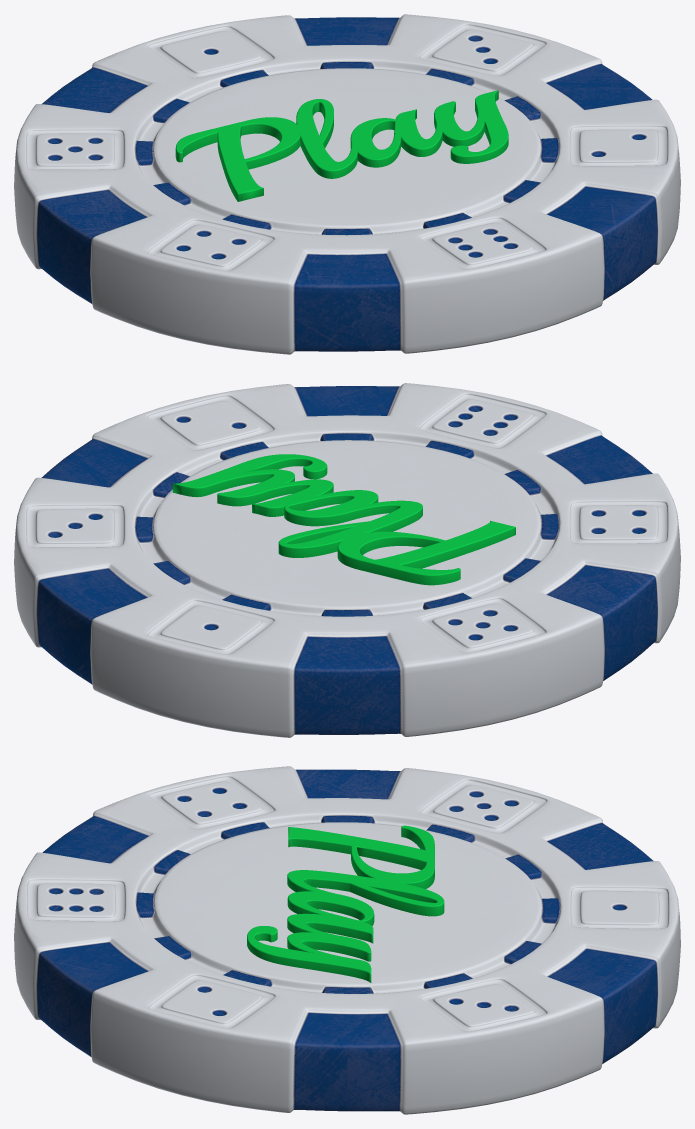
The model's file is white-chip.glb.
3 renders of one model, top to bottom at view 1: azimuth 30°, elevation 25°; view 2: azimuth 150°, elevation 25°; view 3: azimuth 270°, elevation 25°, orthographic.
Visible parts, largest first — view 1: Pocker_Chip_HP_White, Text; view 2: Pocker_Chip_HP_White, Text; view 3: Pocker_Chip_HP_White, Text.
Part boxes in pixels (bbox=[...]): Pocker_Chip_HP_White: bbox=[14, 14, 680, 354]; Text: bbox=[175, 90, 508, 201]; Pocker_Chip_HP_White: bbox=[14, 383, 680, 737]; Text: bbox=[172, 454, 515, 585]; Pocker_Chip_HP_White: bbox=[14, 766, 680, 1114]; Text: bbox=[247, 825, 444, 982].
Size of the model in its own units: 0.0431 by 0.00633 by 0.0435.
Materials: 2 (1 with a texture image).
